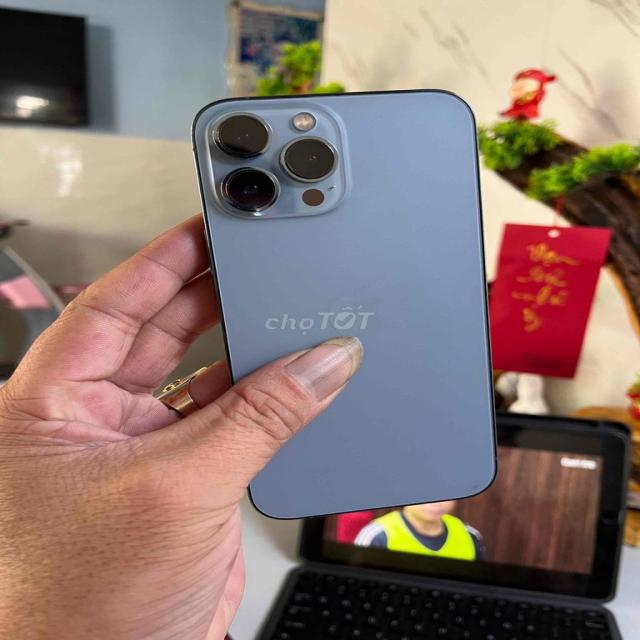gen_12_13: (178, 88, 508, 522)
